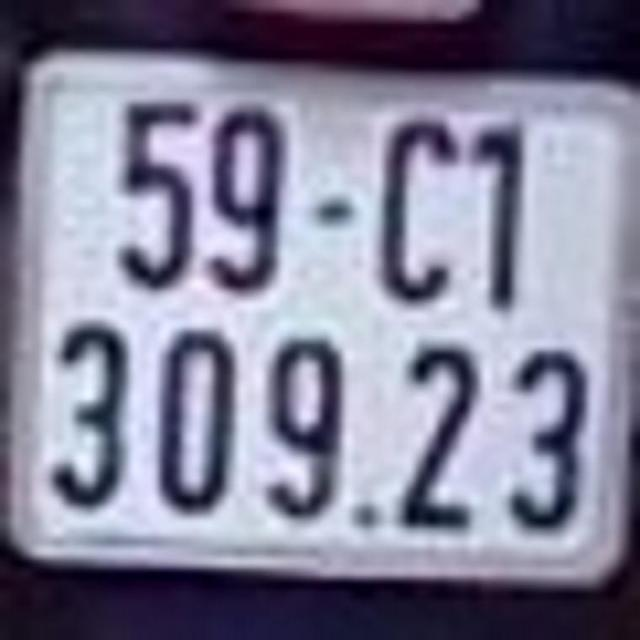0: (159, 327, 228, 512)
1: (472, 132, 522, 300)
2: (404, 346, 472, 524)
3: (513, 344, 583, 530), (63, 324, 121, 506)
5: (128, 102, 194, 284)
9: (268, 334, 343, 516), (213, 107, 277, 290)
C: (383, 121, 453, 297)
